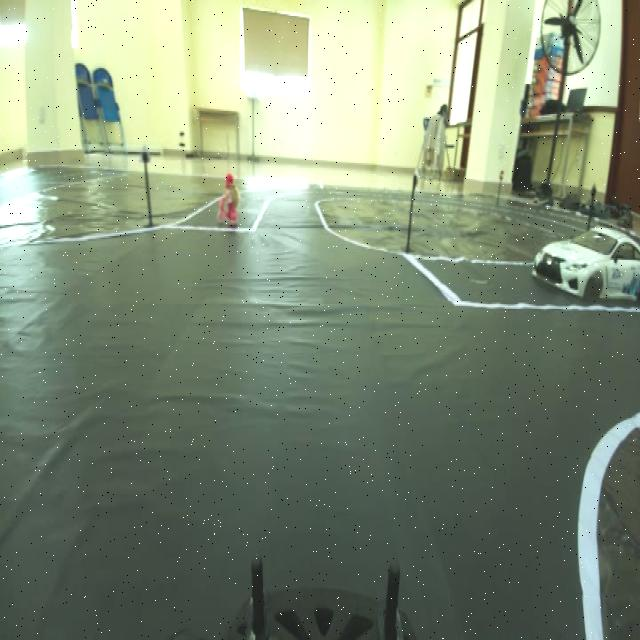car: (534, 210, 638, 308)
